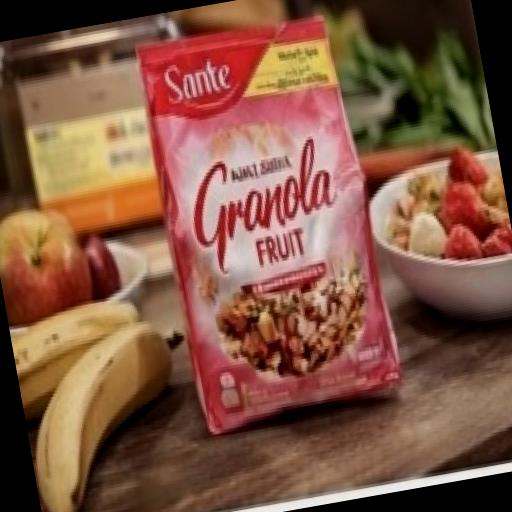granola: (108, 0, 443, 493)
